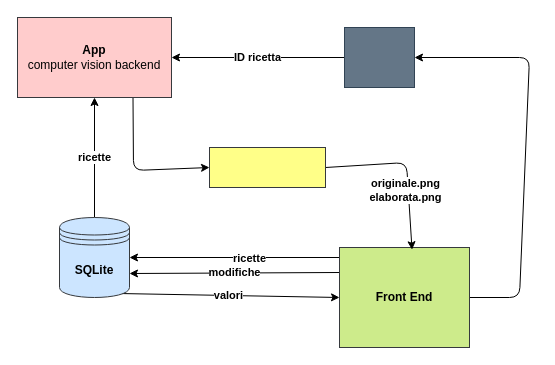
Image size: 555x365. Some labels were removed from this diagram. Here are the shapes that lost their labels. From the top down, the centre of each, then its label:
At point 379,57: "PLC".
At point 267,167: "cartella immagini elaborate".
